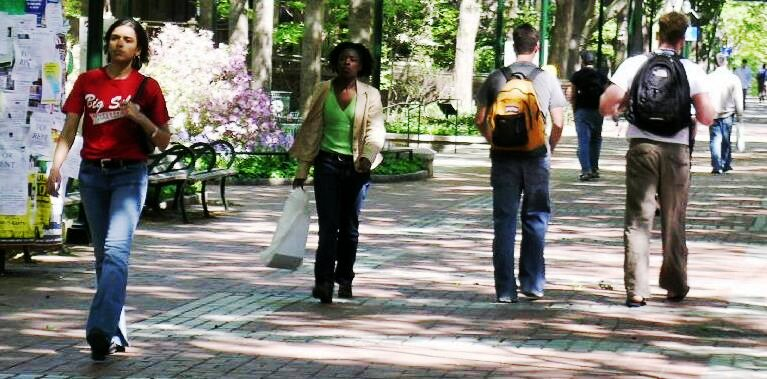person: (49, 12, 174, 369), (602, 12, 720, 313), (289, 35, 385, 320), (480, 19, 562, 312)
